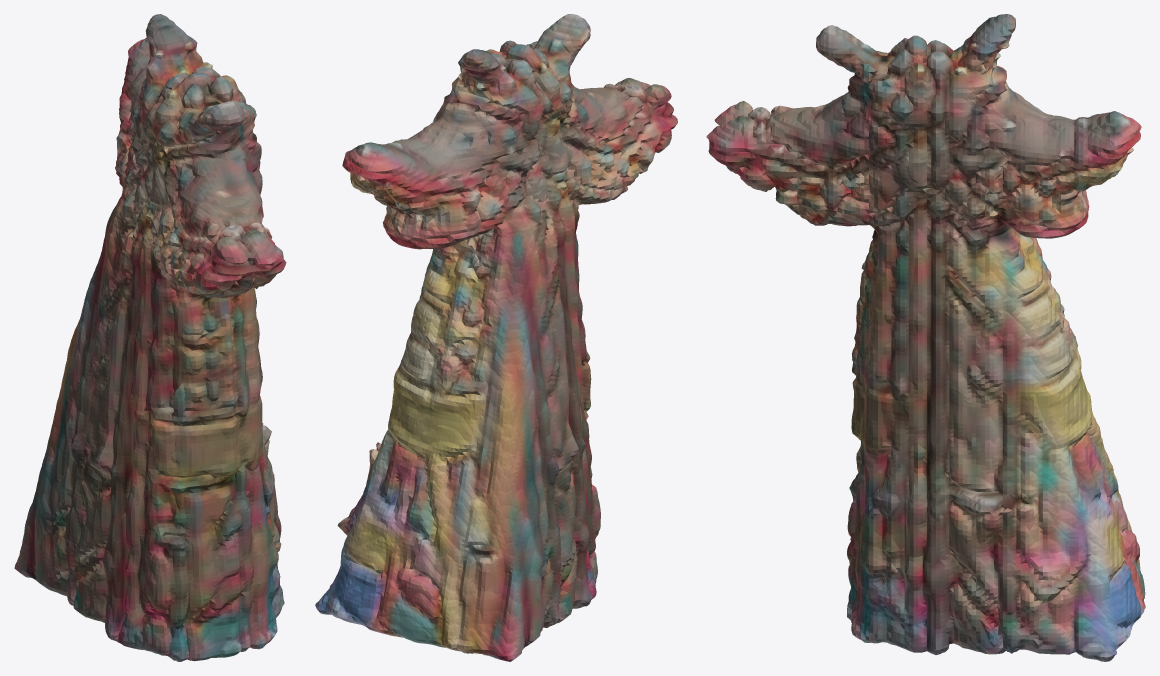
File: kalimantantimur.glb
3 renders of one model, left to right at view 1: azimuth 30°, elevation 25°; view 2: azimuth 150°, elevation 25°; view 3: azimuth 270°, elevation 25°, orthographic. The views are drawn at different scales.
Parts seen in each view (by area): view 1: world; view 2: world; view 3: world.
Boxes of the visible parts, <box> form: world: <box>14,14,286,661</box>; world: <box>315,14,677,661</box>; world: <box>706,14,1145,661</box>.
Bounding box in the file's own units: 0.3892 × 1.03 × 0.6715.
